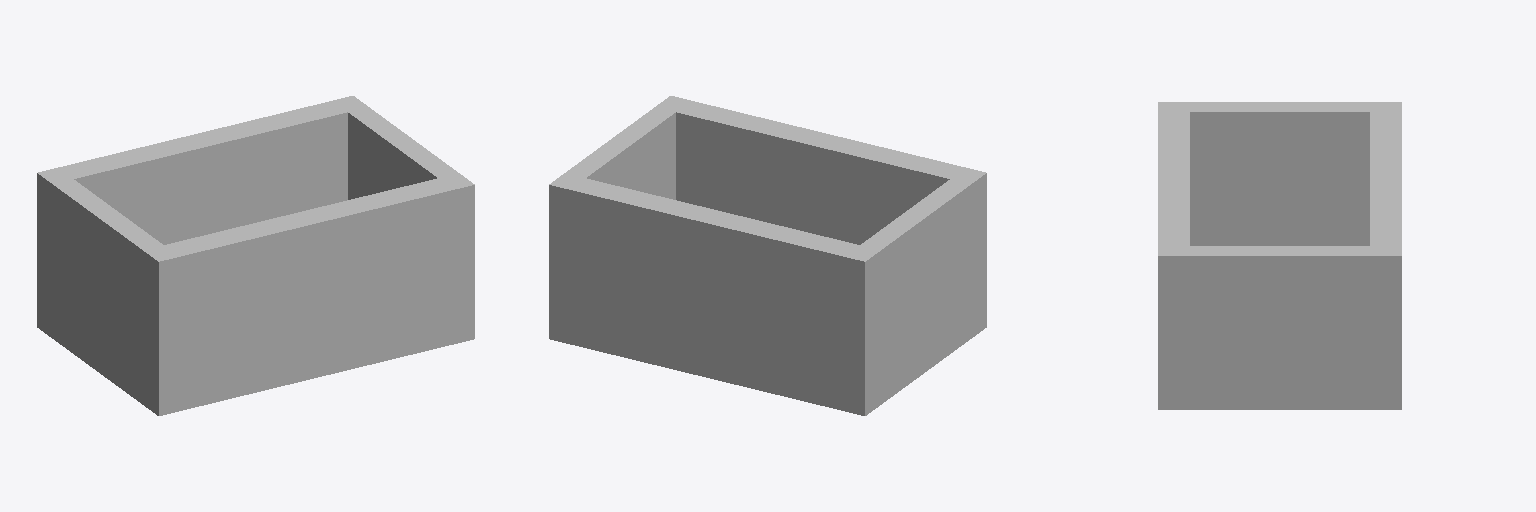
Rendered from fishtank.obj.
3 renders of one model, left to right at view 1: azimuth 30°, elevation 25°; view 2: azimuth 150°, elevation 25°; view 3: azimuth 270°, elevation 25°, orthographic.
Bounding box in the file's own units: 75 × 35 × 50.